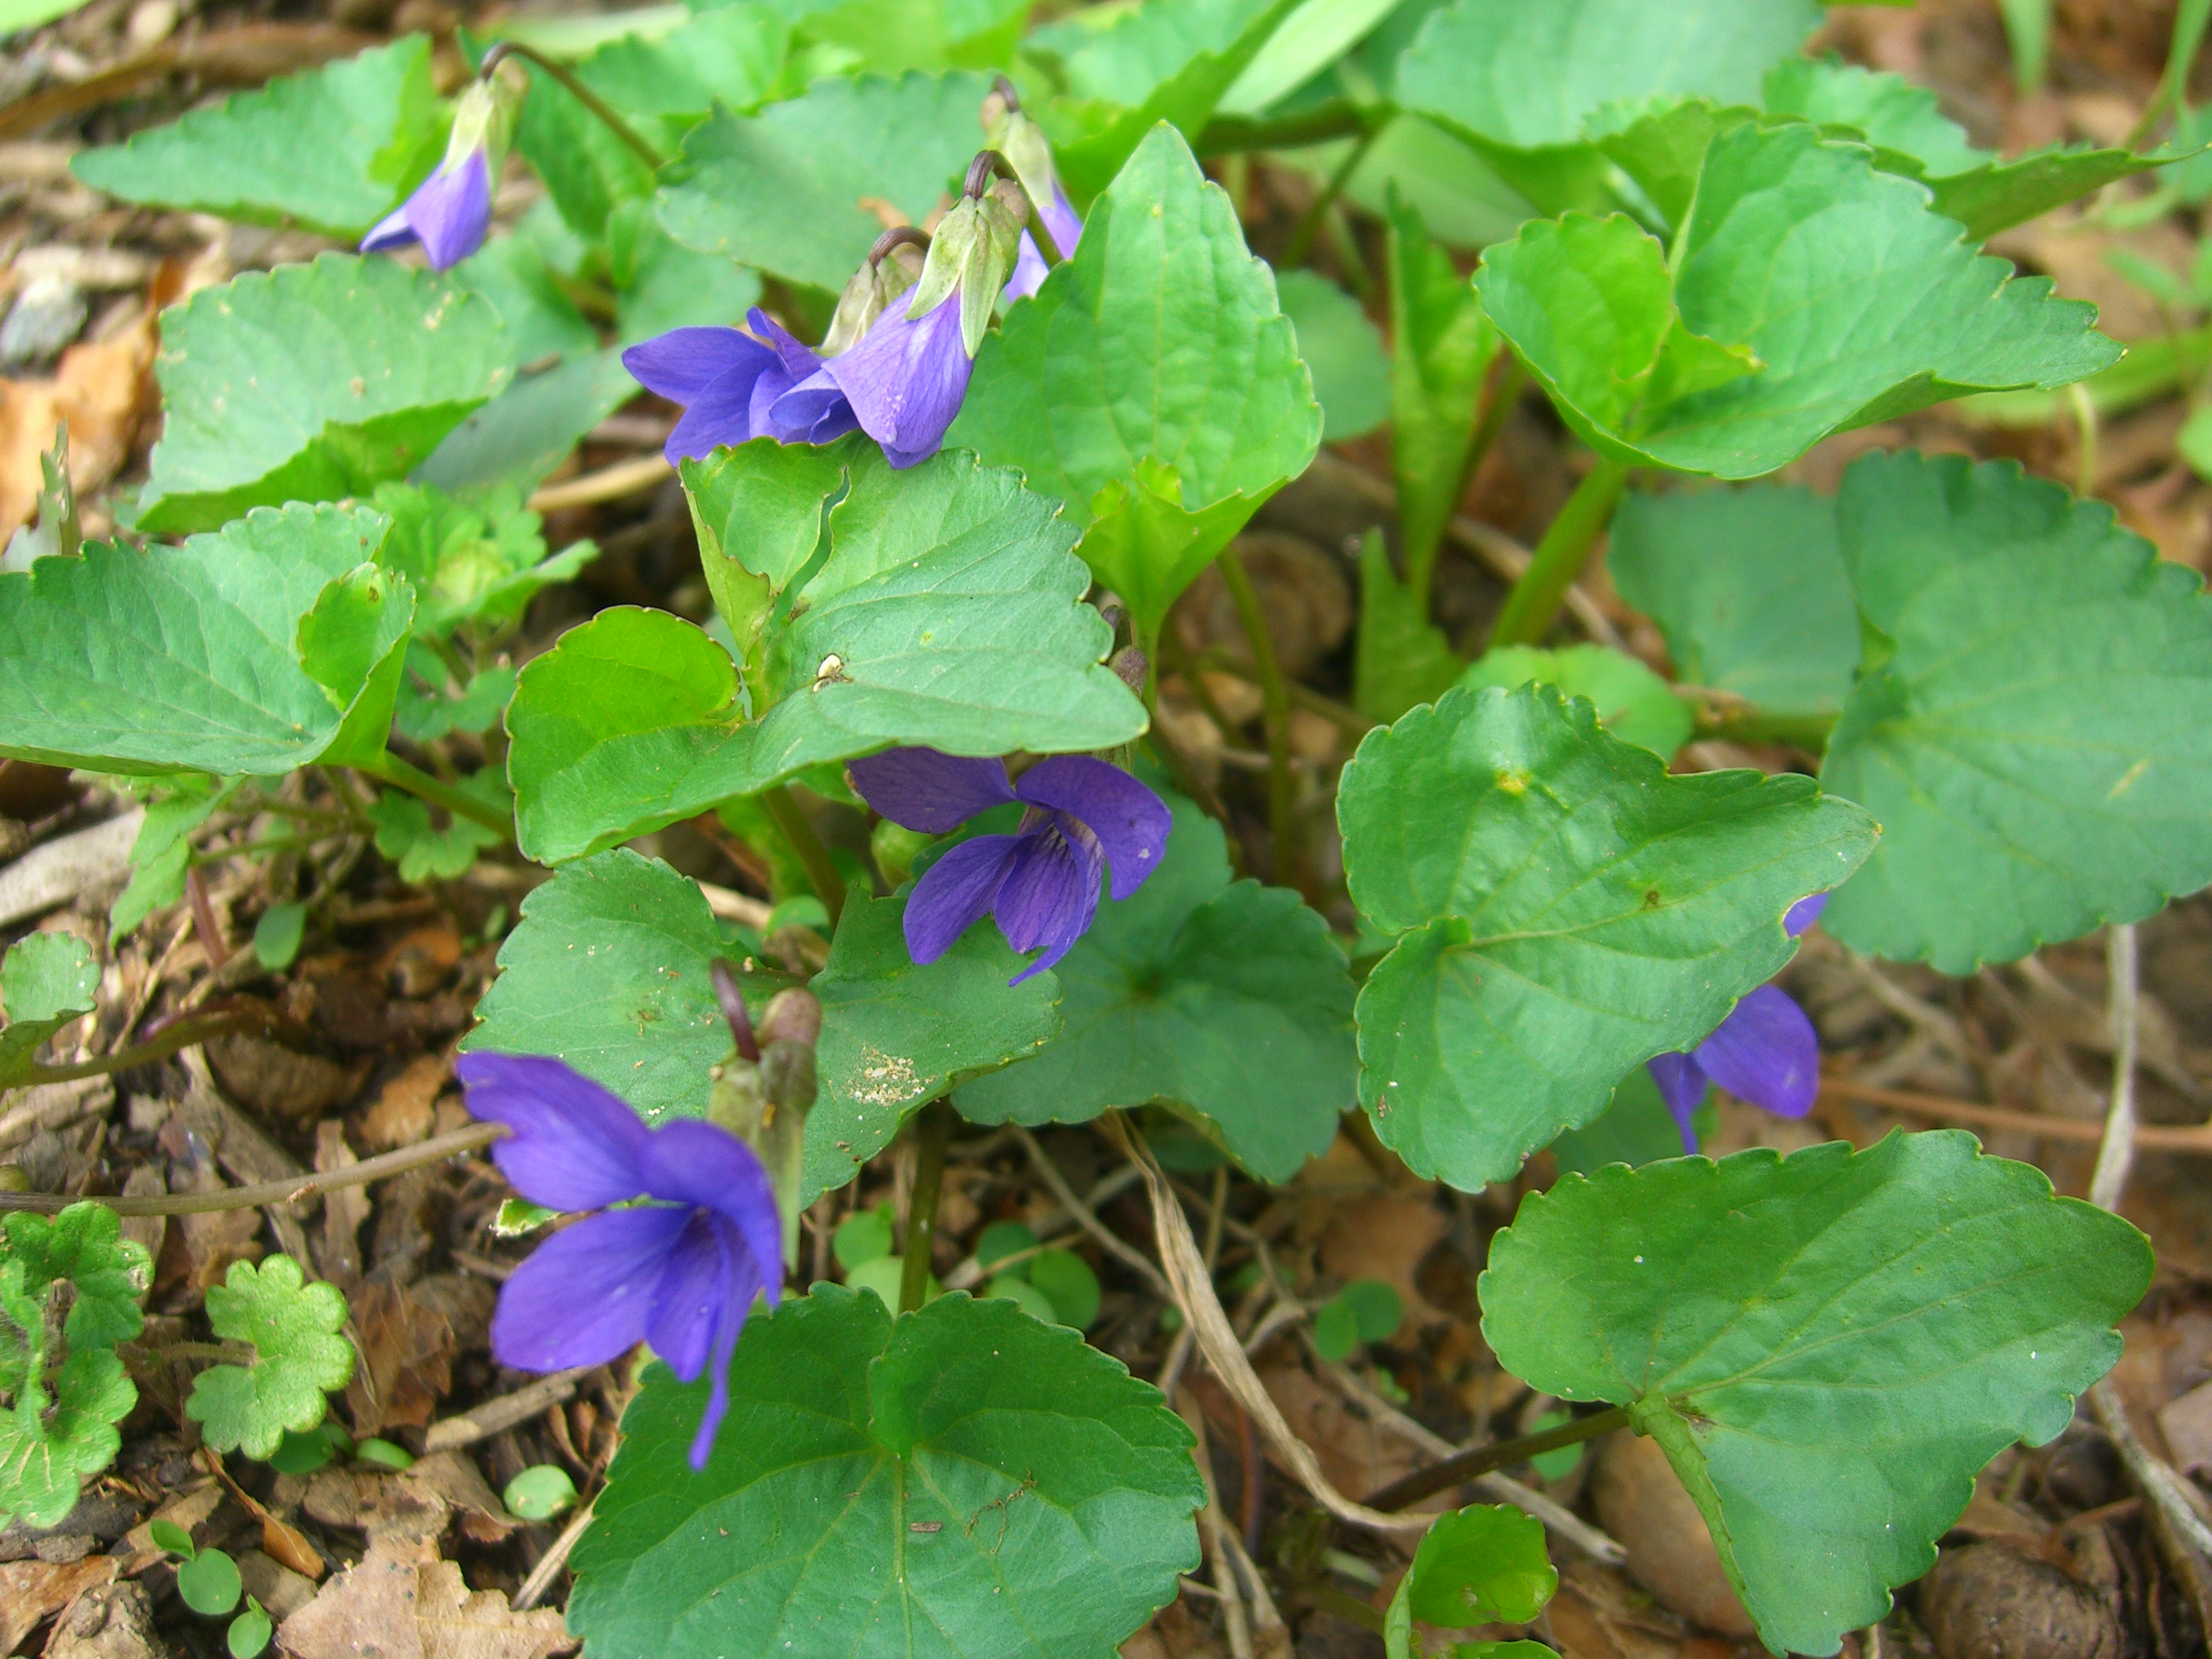violet: (418, 1030, 794, 1450), (660, 162, 1062, 448), (848, 692, 1157, 974)
